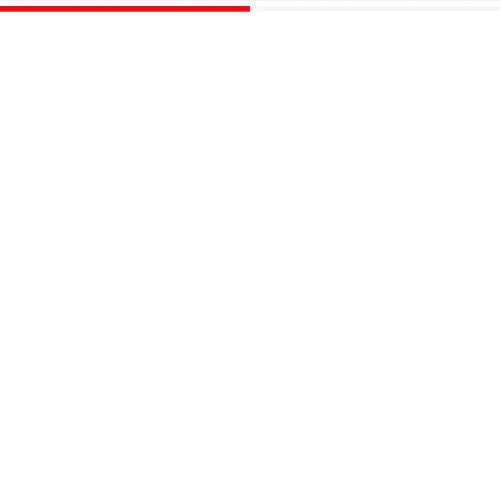ProgressBarHorizontal: (1, 1, 500, 63)
